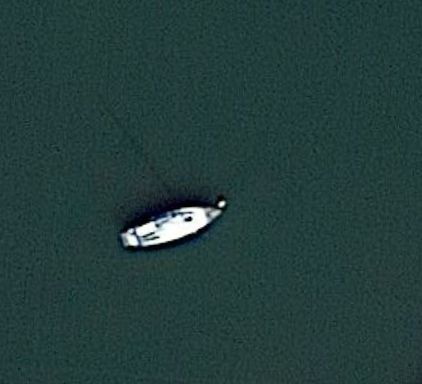boat: (117, 204, 231, 251)
